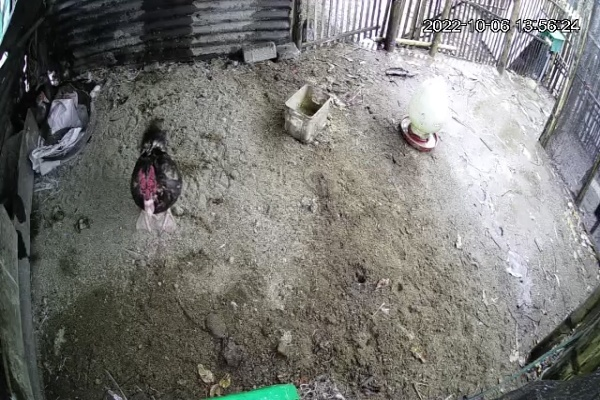Entog: (122, 112, 185, 246)
